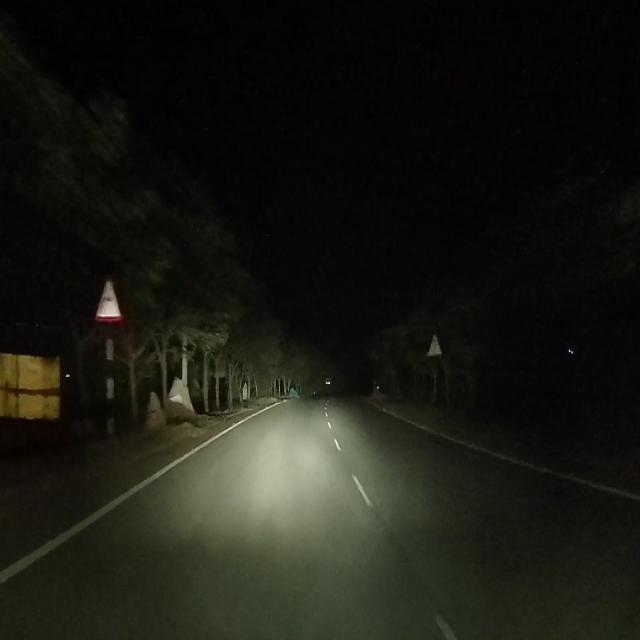right-hand-curve: (92, 267, 125, 327)
